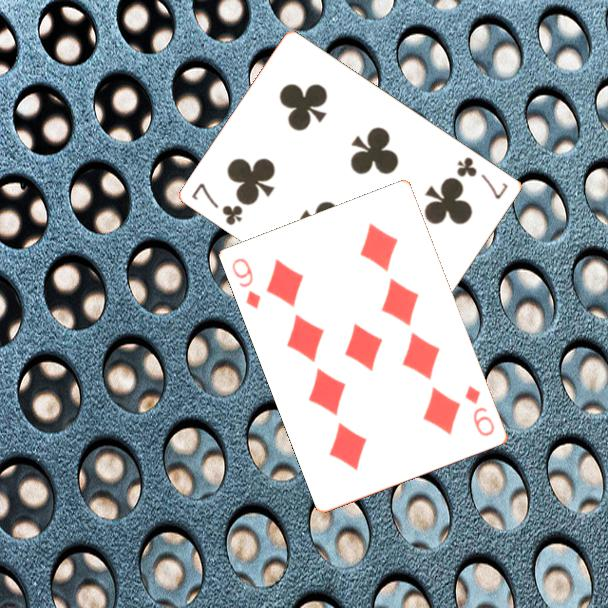c07: (453, 153, 511, 202), (188, 179, 246, 228)
d09: (462, 382, 498, 439), (229, 255, 264, 312)
